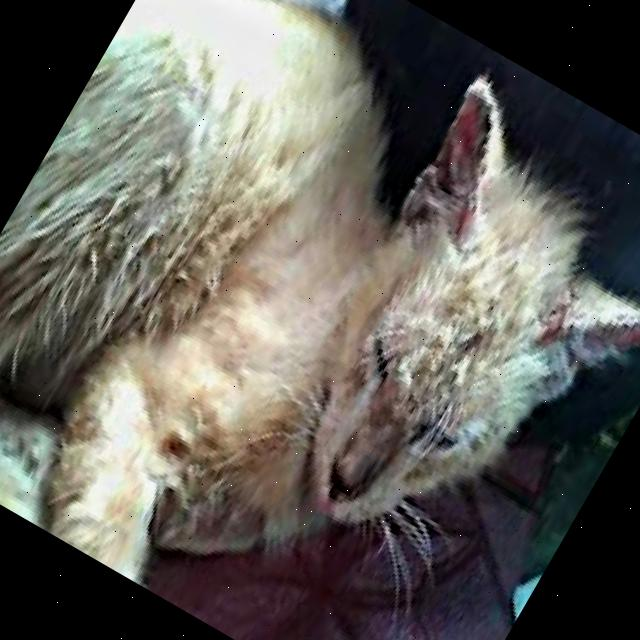cat-scabies: (246, 75, 640, 622)
